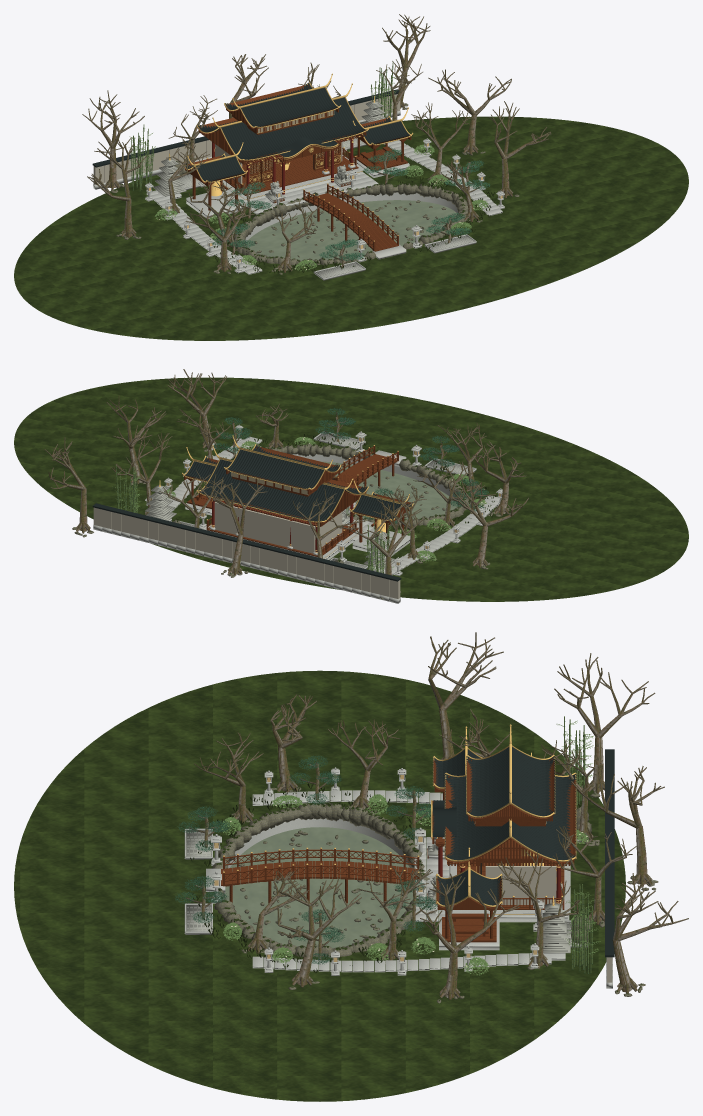
The model's file is temple.glb.
3 renders of one model, top to bottom at view 1: azimuth 30°, elevation 25°; view 2: azimuth 150°, elevation 25°; view 3: azimuth 270°, elevation 25°, orthographic. The views are drawn at different scales.
Parts seen in each view (by area): view 1: Manicured moss garden, Ridged maple bark, Honed silver granite, Polished ebony cedar, Charcoal glazed ceramic, Riverbed sediment, Natural mossy bank stones, Deep green pine needles, Satin gilded bronze, Carved pale limestone, Ivory lime plaster, Clipped garden foliage (+3 smaller); view 2: Manicured moss garden, Ridged maple bark, Charcoal glazed ceramic, Ivory lime plaster, Honed silver granite, Polished ebony cedar, Natural mossy bank stones, Deep green pine needles, Riverbed sediment, Carved pale limestone, Satin gilded bronze, Clipped garden foliage (+2 smaller); view 3: Manicured moss garden, Ridged maple bark, Charcoal glazed ceramic, Honed silver granite, Polished ebony cedar, Riverbed sediment, Natural mossy bank stones, Deep green pine needles, Clipped garden foliage, Carved pale limestone, Soft forest moss, Satin gilded bronze (+2 smaller).
Boxes of the visible parts, left/top/right/bottom form: Manicured moss garden: left=14, top=116, right=688, bottom=340; Ridged maple bark: left=82, top=14, right=551, bottom=272; Honed silver granite: left=93, top=111, right=504, bottom=280; Polished ebony cedar: left=184, top=85, right=412, bottom=251; Charcoal glazed ceramic: left=92, top=82, right=411, bottom=182; Riverbed sediment: left=245, top=200, right=456, bottom=261; Natural mossy bank stones: left=108, top=103, right=519, bottom=274; Deep green pine needles: left=131, top=66, right=490, bottom=261; Satin gilded bronze: left=169, top=73, right=413, bottom=241; Carved pale limestone: left=153, top=100, right=475, bottom=280; Ivory lime plaster: left=93, top=94, right=400, bottom=185; Clipped garden foliage: left=129, top=74, right=488, bottom=270; Manicured moss garden: left=14, top=377, right=688, bottom=601; Ridged maple bark: left=44, top=369, right=528, bottom=575; Charcoal glazed ceramic: left=92, top=444, right=412, bottom=581; Ivory lime plaster: left=93, top=500, right=400, bottom=598; Honed silver granite: left=93, top=424, right=502, bottom=603; Polished ebony cedar: left=182, top=446, right=412, bottom=556; Natural mossy bank stones: left=72, top=441, right=510, bottom=599; Deep green pine needles: left=116, top=408, right=488, bottom=572; Riverbed sediment: left=320, top=461, right=457, bottom=520; Carved pale limestone: left=145, top=432, right=474, bottom=569; Satin gilded bronze: left=159, top=435, right=413, bottom=558; Clipped garden foliage: left=115, top=437, right=486, bottom=572; Manicured moss garden: left=14, top=670, right=625, bottom=1101; Ridged maple bark: left=185, top=632, right=688, bottom=999; Charcoal glazed ceramic: left=432, top=747, right=614, bottom=957; Honed silver granite: left=184, top=767, right=612, bottom=988; Polished ebony cedar: left=221, top=758, right=575, bottom=942; Riverbed sediment: left=225, top=827, right=413, bottom=948; Natural mossy bank stones: left=212, top=759, right=658, bottom=1003; Deep green pine needles: left=175, top=721, right=592, bottom=973; Clipped garden foliage: left=221, top=720, right=600, bottom=975; Carved pale limestone: left=185, top=830, right=587, bottom=953; Soft forest moss: left=190, top=783, right=654, bottom=1001; Satin gilded bronze: left=223, top=724, right=576, bottom=914.
Size of the model in its own units: 69 by 10.47 by 45.66.
19 materials, 8 textured.
